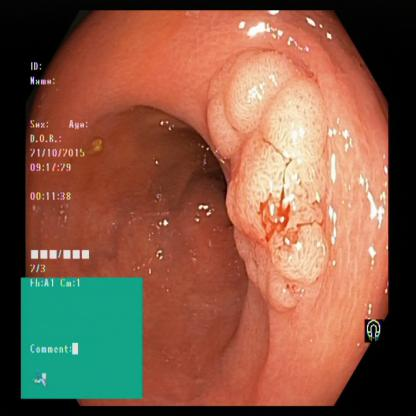Labels: (25, 50, 126, 275), (20, 277, 142, 399)
Polyps: (196, 40, 350, 308)
